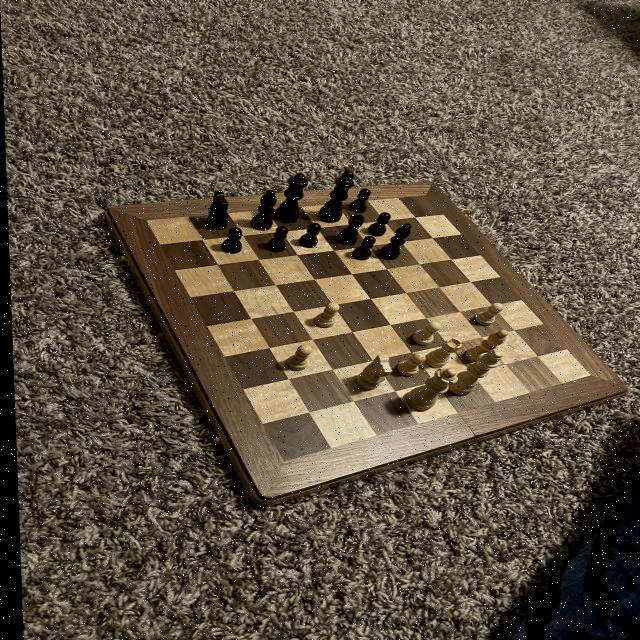bishop: (245, 187, 279, 232), (375, 221, 413, 261)
black-bishop: (314, 169, 358, 224)
black-king: (201, 188, 232, 230)
black-knight: (364, 210, 391, 238), (348, 235, 374, 262), (217, 227, 243, 254), (347, 187, 371, 214), (296, 223, 320, 250), (264, 225, 286, 253)
black-pawn: (271, 171, 310, 223)
black-queen: (332, 212, 364, 247)
black-rook: (461, 327, 508, 364)
white-bishop: (445, 347, 505, 398)
white-king: (349, 352, 393, 392)
white-knight: (392, 350, 425, 378), (470, 300, 502, 328), (281, 343, 310, 372), (311, 300, 339, 330), (409, 319, 440, 345)
white-pawn: (400, 364, 458, 412)
white-queen: (420, 336, 462, 370)
